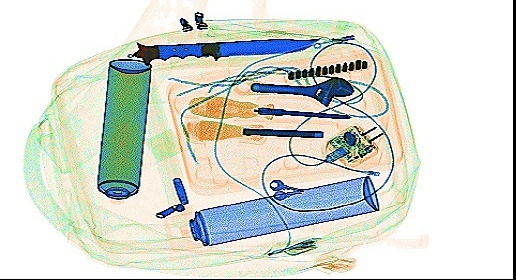knife: (126, 35, 321, 67)
pressure: (163, 174, 378, 248), (94, 56, 152, 202)
